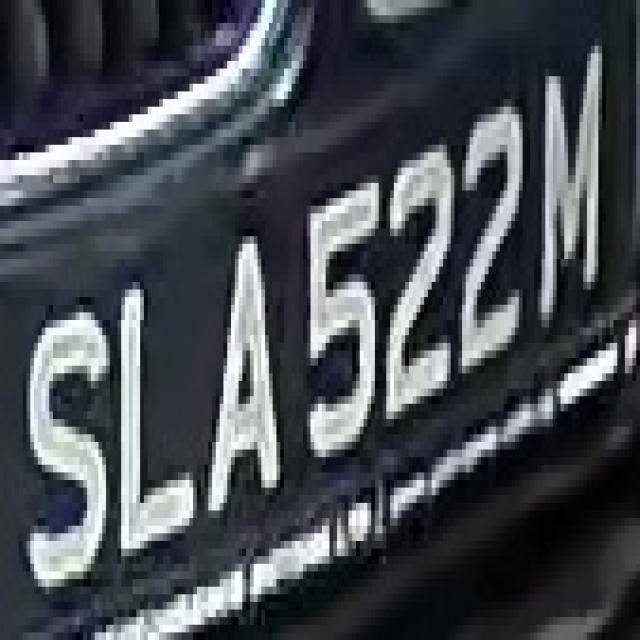2: (371, 122, 462, 442), (443, 91, 538, 396)
5: (296, 160, 382, 472)
A: (201, 206, 288, 518)
L: (106, 274, 208, 564)
M: (526, 46, 610, 312)
S: (19, 297, 114, 602)
